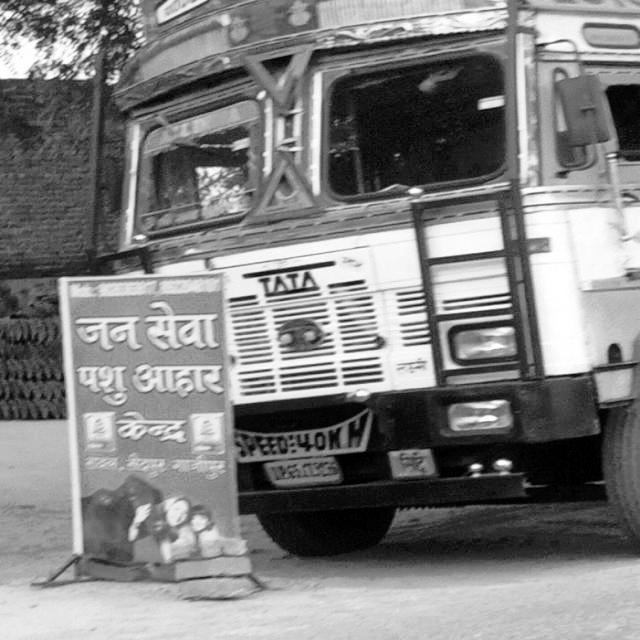HCV: (120, 30, 640, 560)
